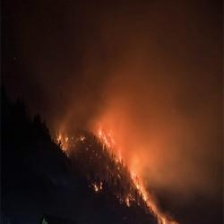fire: (53, 123, 173, 224)
